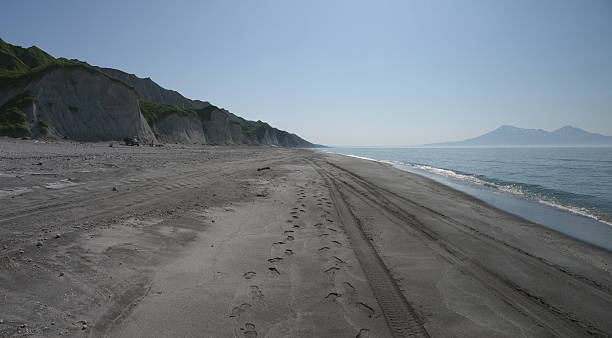vehicle_track: (335, 173, 605, 336), (315, 166, 428, 336)
